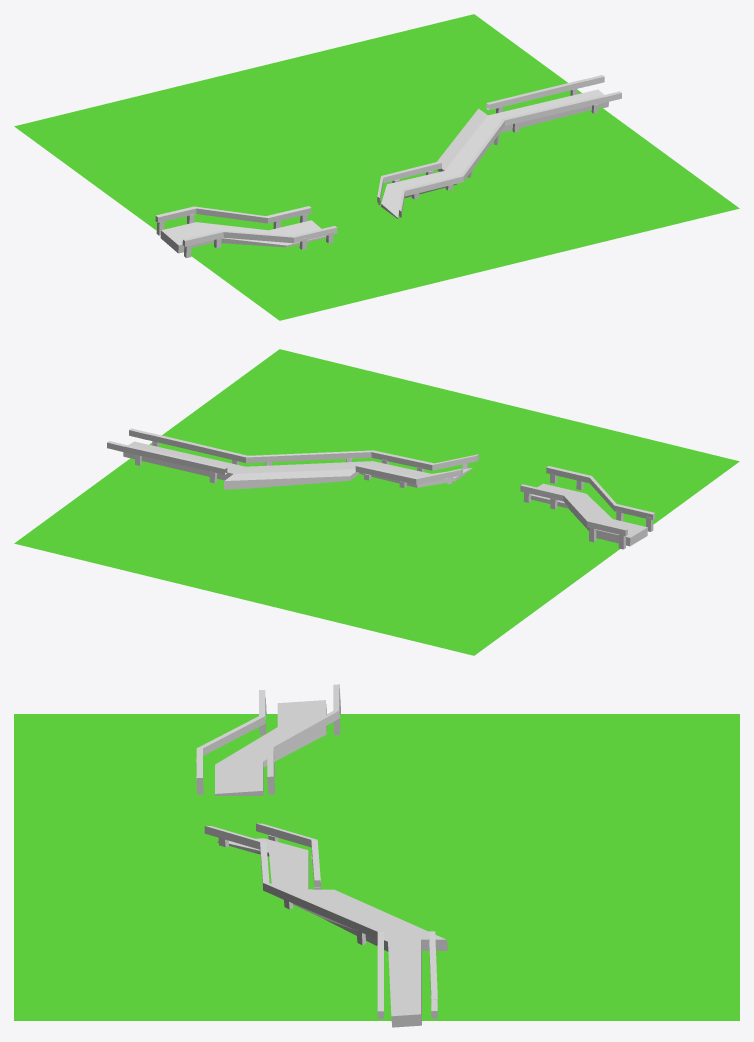
File: parkIII.dae
3 views of the same model, one above another, from view 1: azimuth 30°, elevation 25°; view 2: azimuth 150°, elevation 25°; view 3: azimuth 270°, elevation 25° (orthographic). The views are drawn at different scales.
Visible parts, largest first — view 1: Plane, Cube_003, Cube, Cube_001, Cube_002, Cube_006; view 2: Plane, Cube_003, Cube, Cube_001, Cube_002, Cube_006; view 3: Plane, Cube, Cube_003, Cube_001, Cube_002, Cube_006.
Part boxes in pixels (<box>): Plane: <box>14,14,739,320</box>; Cube_003: <box>182,75,621,246</box>; Cube: <box>381,89,608,218</box>; Cube_001: <box>160,220,326,253</box>; Cube_002: <box>155,206,311,223</box>; Cube_006: <box>377,161,441,203</box>; Plane: <box>14,349,739,655</box>; Cube_003: <box>107,428,655,520</box>; Cube: <box>123,441,472,489</box>; Cube_001: <box>531,483,647,546</box>; Cube_002: <box>520,484,627,535</box>; Cube_006: <box>355,464,462,484</box>; Plane: <box>14,714,739,1020</box>; Cube: <box>217,838,447,1027</box>; Cube_003: <box>196,690,437,1018</box>; Cube_001: <box>215,700,326,795</box>; Cube_002: <box>267,684,339,784</box>; Cube_006: <box>256,823,320,887</box>.
Bounding box in the file's own units: 132 × 126 × 6.95.
